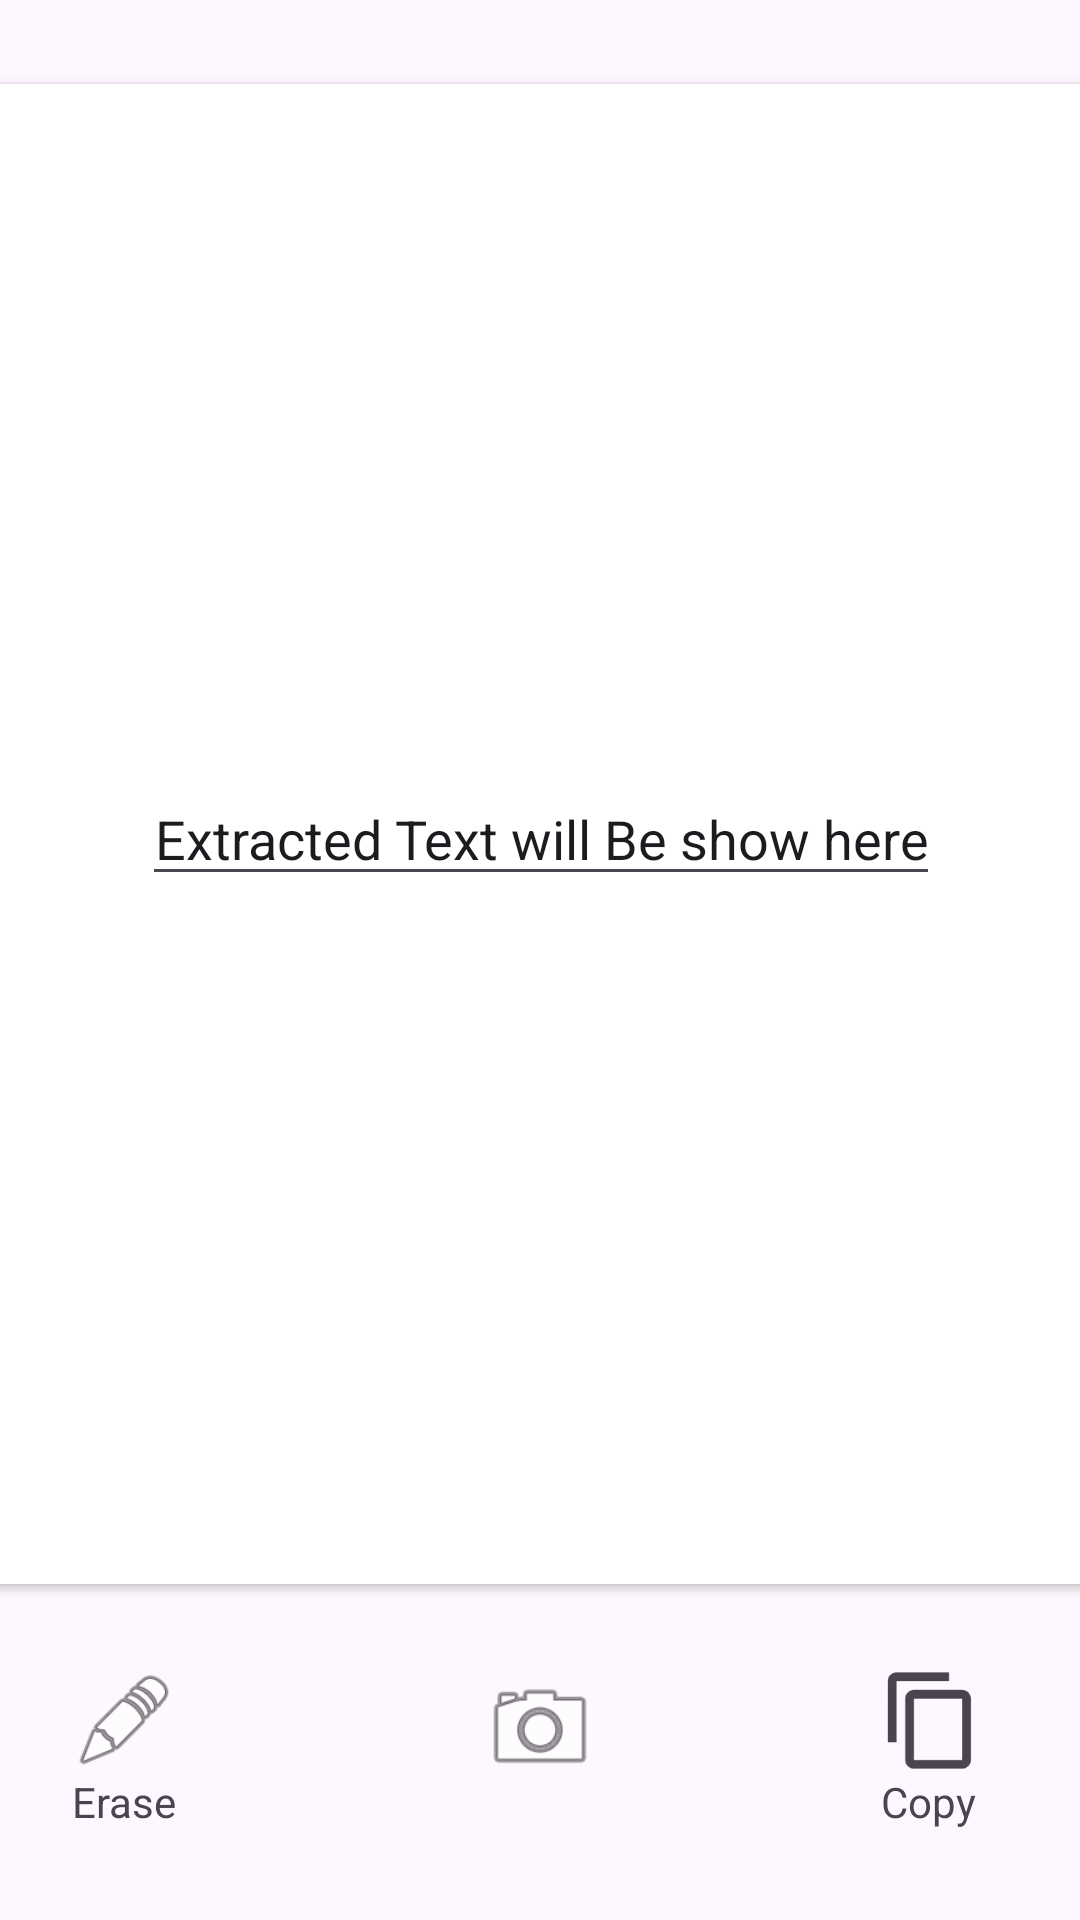

Where to tap for icons on this 1080 × 1920 app screen, as [x,y]:
camera: [540,1726]
edit: [124,1719]
